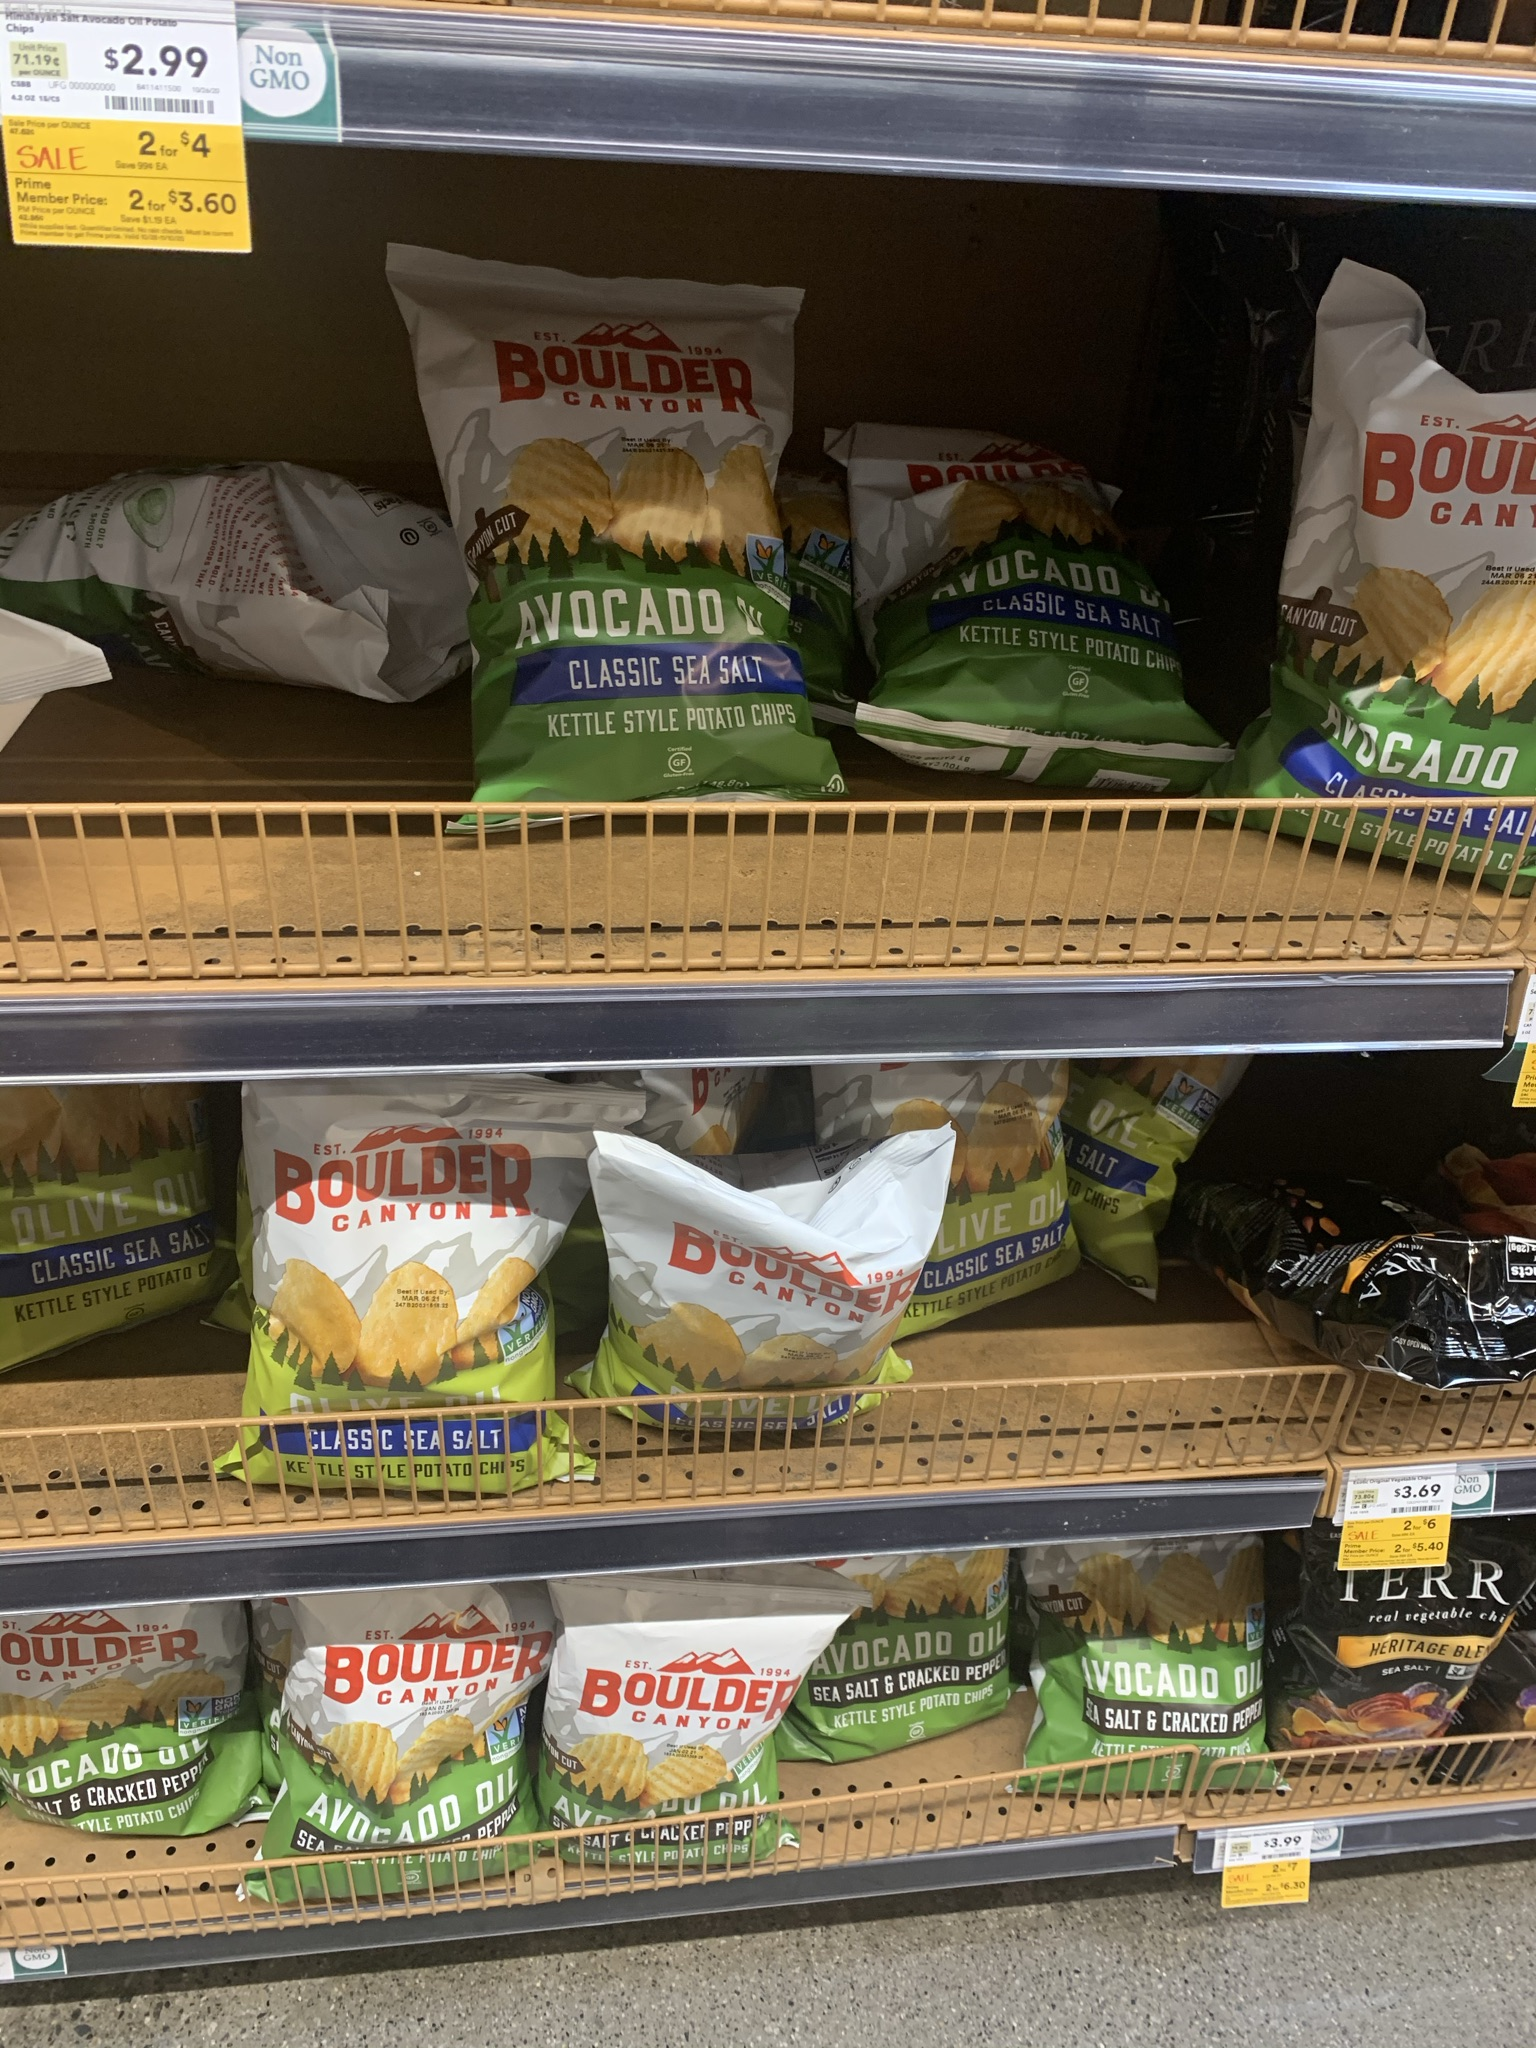Chips: (236, 1072, 586, 1487), (250, 1579, 549, 1867), (558, 1569, 799, 1854)
